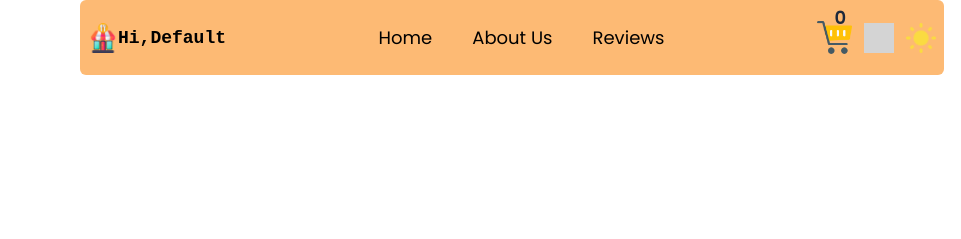
Scenario: Test Header Component › Should show the edit boox when i click the user
Click the heading "Hi,Default" at {"x": 172, "y": 38}, box x1=118 y1=24 x2=226 y2=52
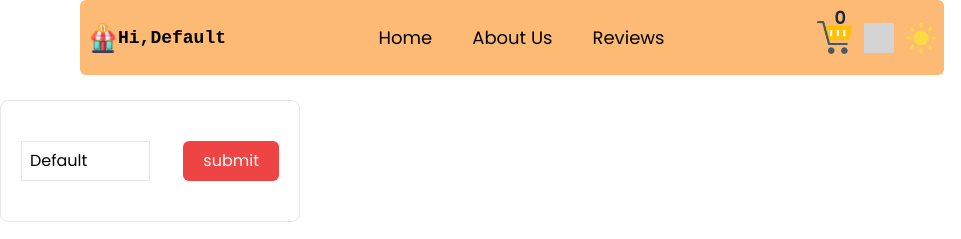
Check: the button "submit" is shown, box x1=183 y1=141 x2=279 y2=181
